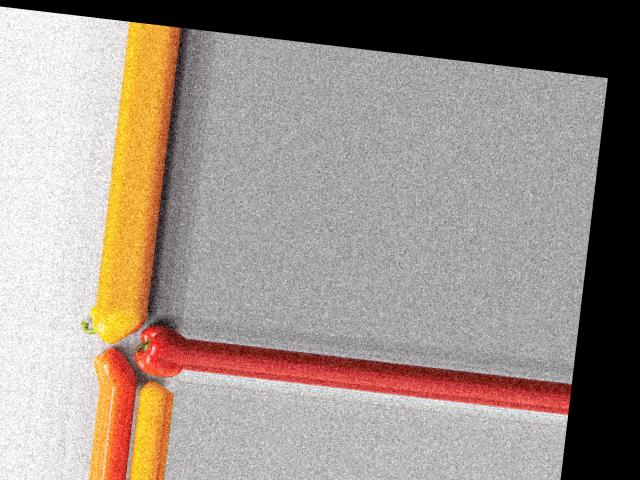bell_pepper: (133, 318, 186, 378)
